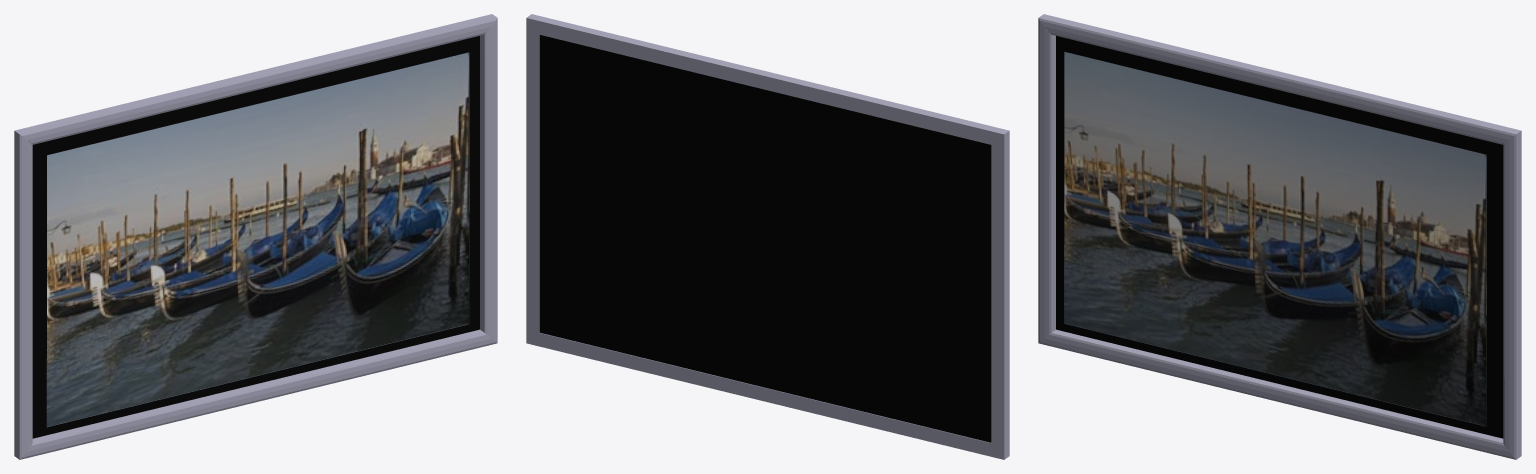
Rendered from sweethome3d-contributions-frame-venice-180.glb.
The picture shows the model from 3 angles, left to right: view 1: azimuth 30°, elevation 25°; view 2: azimuth 150°, elevation 25°; view 3: azimuth 330°, elevation 25°; orthographic projection.
Parts seen in each view (by area): view 1: Photo_Cube_Material_Venice.jpg, MetalFrame_Cylinder_Aluminium.013, Frame_Black_Material.017; view 2: Frame_Black_Material.017, MetalFrame_Cylinder_Aluminium.013; view 3: Photo_Cube_Material_Venice.jpg, MetalFrame_Cylinder_Aluminium.013, Frame_Black_Material.017.
Boxes of the visible parts, bbox=[...] form: Photo_Cube_Material_Venice.jpg: bbox=[46, 52, 469, 427]; MetalFrame_Cylinder_Aluminium.013: bbox=[14, 14, 497, 459]; Frame_Black_Material.017: bbox=[32, 36, 479, 438]; Frame_Black_Material.017: bbox=[539, 35, 991, 442]; MetalFrame_Cylinder_Aluminium.013: bbox=[526, 14, 1009, 459]; Photo_Cube_Material_Venice.jpg: bbox=[1064, 51, 1486, 426]; MetalFrame_Cylinder_Aluminium.013: bbox=[1038, 14, 1521, 459]; Frame_Black_Material.017: bbox=[1056, 36, 1503, 438].
Bounding box in the file's own units: 73.53 × 47.86 × 1.6.
3 materials, 1 textured.
